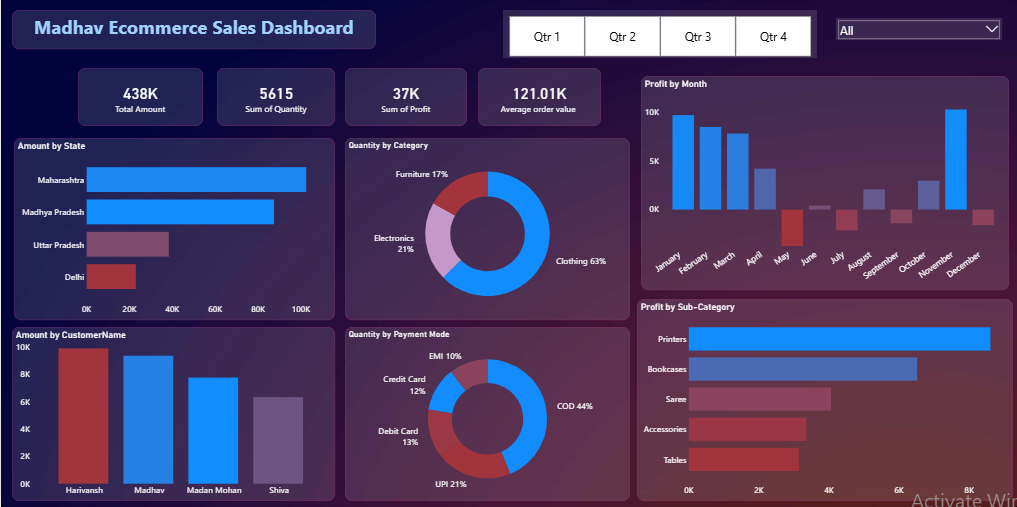

The dashboard page shown, as its layout file describes it:
{"tool":"powerbi","page":{"name":"Page 1","canvas":[4000,2000],"ordinal":0},"visuals":[{"type":"textbox","box":[43.3,43.3,1433.1,153.5],"z":0},{"type":"clusteredColumnChart","title":"Profit by Month","fields":{"Y":["Details.Profit"],"Category":["Orders.Order Date.Variation.Date Hierarchy.Month"]},"box":[2519.7,303.1,1448.8,842.5],"z":1000},{"type":"barChart","title":"Profit by Sub-Category","fields":{"Category":["Details.Sub-Category"],"Y":["Details.Profit"]},"box":[2503.9,1181.1,1480.3,795.3],"z":2000},{"type":"donutChart","title":"Quantity by Category","fields":{"Category":["Details.Category"],"Y":["Details.Quantity"]},"box":[1354.3,547.2,1122,716.5],"z":3000},{"type":"donutChart","title":"Quantity by Payment Mode","fields":{"Y":["Details.Quantity"],"Category":["Details.PaymentMode"]},"box":[1354.3,1291.3,1122,685],"z":4000},{"type":"card","fields":{"Values":["Details.Amount"]},"box":[303.1,271.7,492.1,228.3],"z":5000},{"type":"card","fields":{"Values":["Details.Quantity"]},"box":[850.4,271.7,464.6,228.3],"z":6000},{"type":"card","fields":{"Values":["Details.Profit"]},"box":[1354.3,271.7,480.3,228.3],"z":7000},{"type":"card","fields":{"Values":["Details.AOV"]},"box":[1878,271.7,484.3,228.3],"z":8000},{"type":"barChart","title":"Amount by State","fields":{"Y":["Details.Amount"],"Category":["Orders.State"]},"box":[51.2,547.2,1263.8,716.5],"z":9000},{"type":"columnChart","title":"Amount by CustomerName","fields":{"Category":["Orders.CustomerName"],"Y":["Details.Amount"]},"box":[43.3,1291.3,1271.7,685],"z":10000},{"type":"slicer","fields":{"Values":["Orders.Order Date.Variation.Date Hierarchy.Quarter"]},"box":[1976.4,43.3,1236.2,189],"z":11000},{"type":"slicer","fields":{"Values":["Orders.State"]},"box":[3287.4,74.8,653.5,86.6],"z":12000}]}

Visuals, with their boxes in screenshot pixels (x1, y1, x2, y2), scaled from the page's 4000x2000 canvas onto the 1017x507 screenshot:
textbox: Rect(11, 11, 375, 50)
"Profit by Month" clusteredColumnChart: Rect(641, 77, 1009, 290)
"Profit by Sub-Category" barChart: Rect(637, 299, 1013, 501)
"Quantity by Category" donutChart: Rect(344, 139, 630, 320)
"Quantity by Payment Mode" donutChart: Rect(344, 327, 630, 501)
card - Details.Amount: Rect(77, 69, 202, 127)
card - Details.Quantity: Rect(216, 69, 334, 127)
card - Details.Profit: Rect(344, 69, 466, 127)
card - Details.AOV: Rect(477, 69, 601, 127)
"Amount by State" barChart: Rect(13, 139, 334, 320)
"Amount by CustomerName" columnChart: Rect(11, 327, 334, 501)
slicer - Orders.Order Date.Variation.Date Hierarchy.Quarter: Rect(502, 11, 817, 59)
slicer - Orders.State: Rect(836, 19, 1002, 41)
